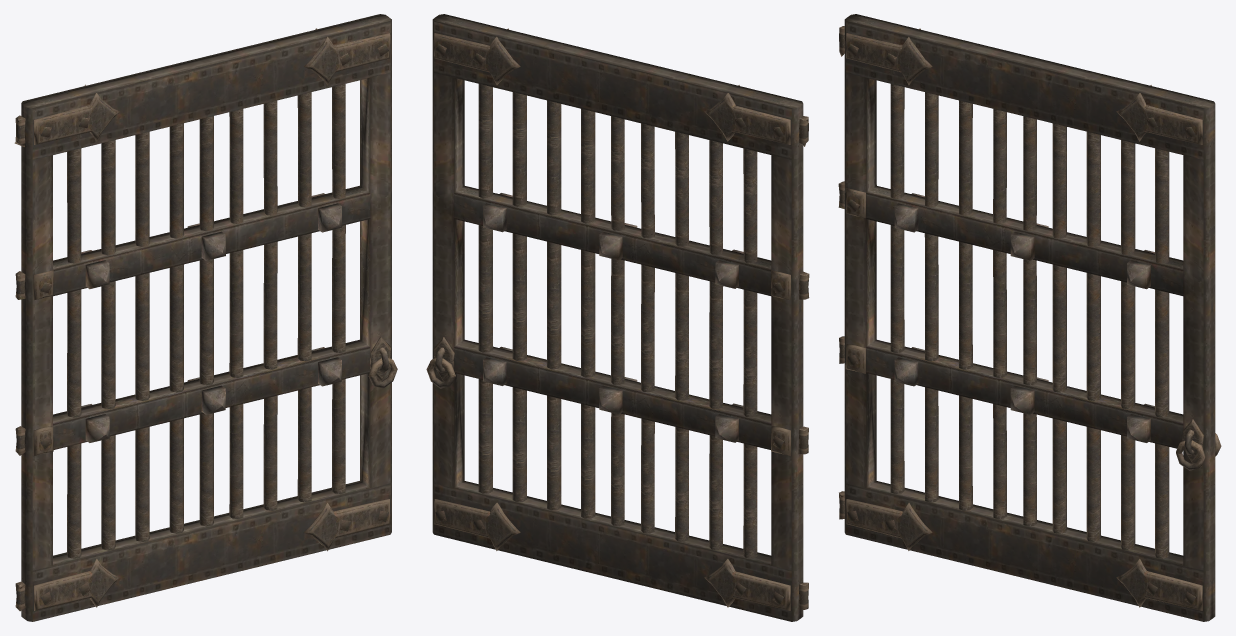
The picture shows the model from 3 angles, left to right: view 1: azimuth 30°, elevation 25°; view 2: azimuth 150°, elevation 25°; view 3: azimuth 330°, elevation 25°; orthographic projection.
Parts seen in each view (by area): view 1: SM_DR_Gate_01_LOD0; view 2: SM_DR_Gate_01_LOD0; view 3: SM_DR_Gate_01_LOD0.
Boxes of the visible parts, x1=… form: SM_DR_Gate_01_LOD0: x1=14, y1=14, x2=397, y2=621; SM_DR_Gate_01_LOD0: x1=426, y1=14, x2=809, y2=621; SM_DR_Gate_01_LOD0: x1=838, y1=14, x2=1221, y2=621.
Size of the model in its own units: 3.04 by 4.01 by 0.4438.
Materials: 2 (2 with a texture image).
